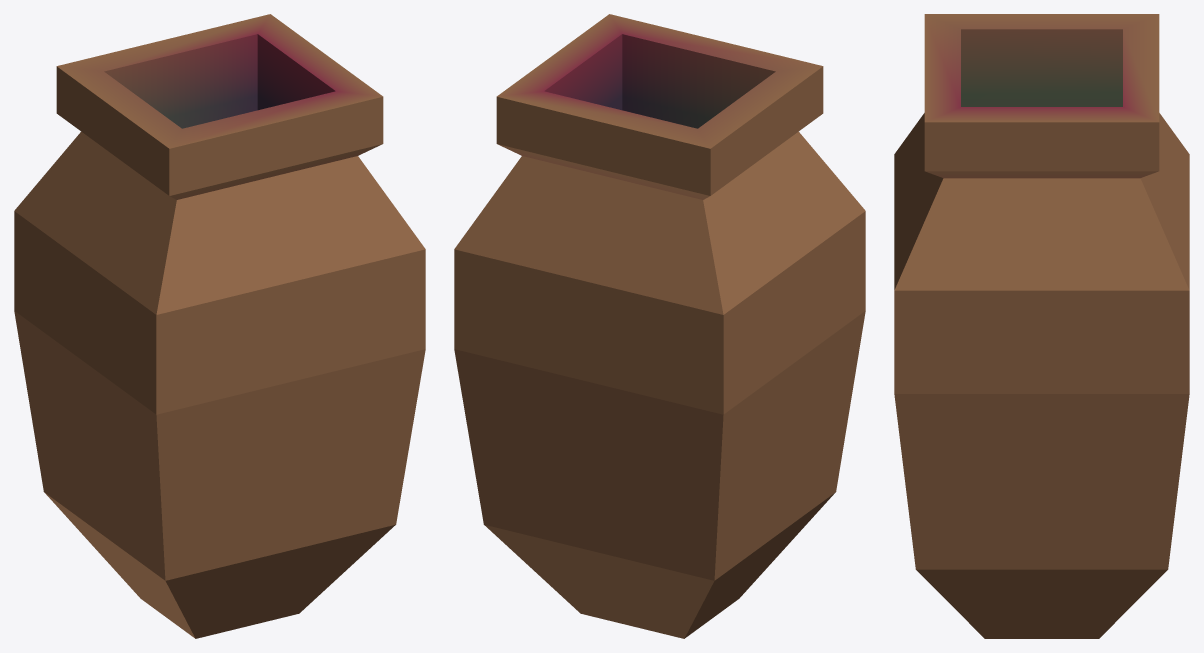
3 renders of one model, left to right at view 1: azimuth 30°, elevation 25°; view 2: azimuth 150°, elevation 25°; view 3: azimuth 270°, elevation 25°, orthographic. The views are drawn at different scales.
Parts seen in each view (by area): view 1: foot, band; view 2: foot, band; view 3: foot, band.
Part boxes in pixels (x1,y1,x2,y2): foot: [14, 96, 425, 638]; band: [56, 14, 383, 199]; foot: [454, 96, 865, 638]; band: [496, 14, 823, 199]; foot: [894, 93, 1189, 638]; band: [924, 14, 1159, 178].
Bounding box in the file's own units: 0.1611 × 0.3 × 0.1474.
